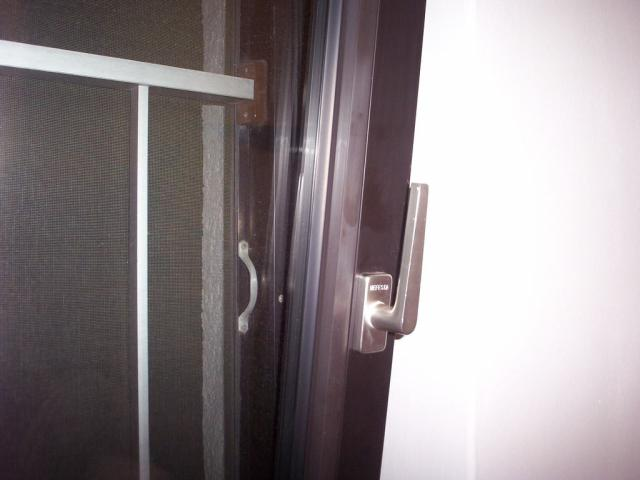Door-handle: (348, 181, 422, 359), (238, 239, 260, 334)
